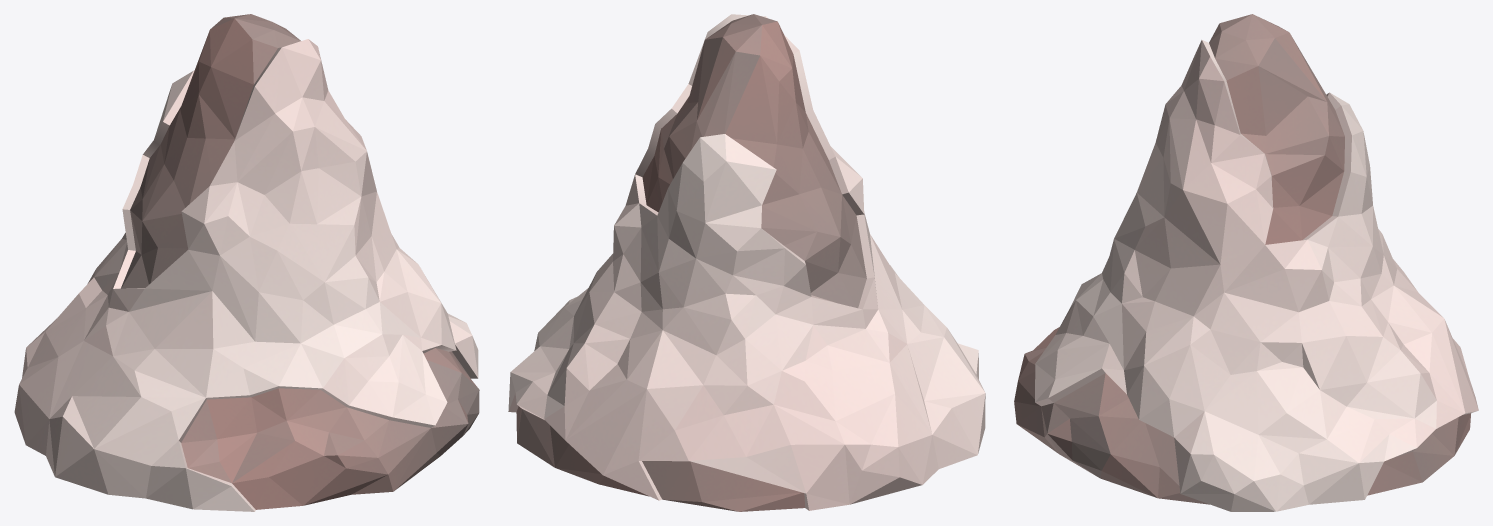
File: Mountain_Sin_4A.fbx
3 views of the same model, side by side, from view 1: azimuth 30°, elevation 25°; view 2: azimuth 150°, elevation 25°; view 3: azimuth 270°, elevation 25° (orthographic).
Visible parts, largest first — view 1: Group64590; view 2: Group64590; view 3: Group64590.
Boxes of the visible parts, left/top/right/bottom form: Group64590: left=14, top=14, right=479, bottom=511; Group64590: left=508, top=14, right=985, bottom=511; Group64590: left=1014, top=14, right=1478, bottom=511.
Bounding box in the file's own units: 35.65 × 32.02 × 34.1.
1 material, 1 textured.
